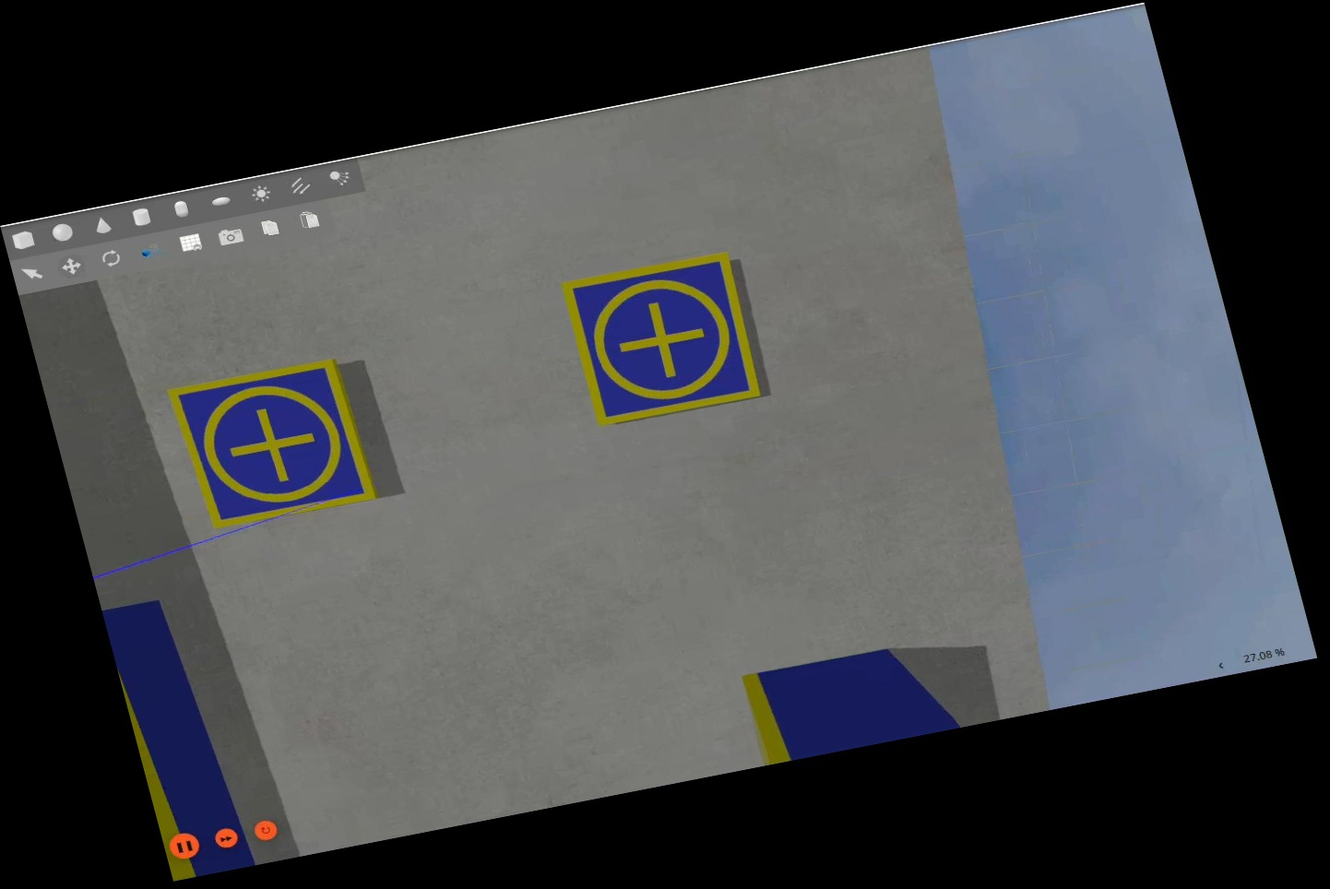small_base: (164, 351, 381, 534), (558, 246, 767, 427)
